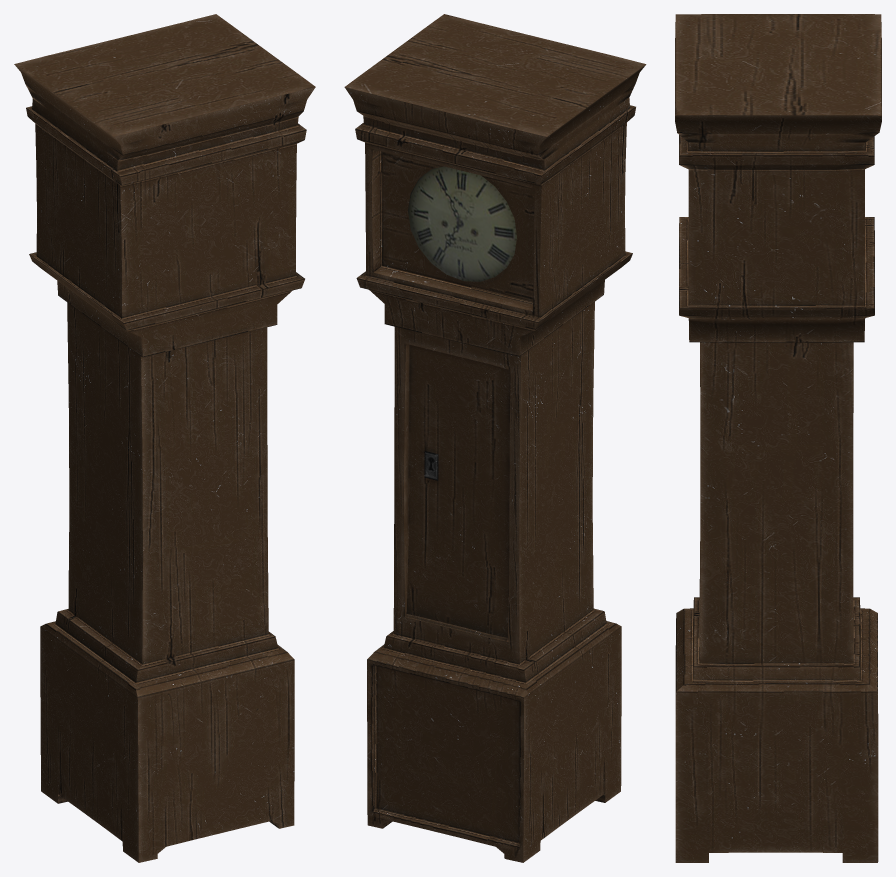
Rendered from Clock.fbx.
The picture shows the model from 3 angles, left to right: view 1: azimuth 30°, elevation 25°; view 2: azimuth 150°, elevation 25°; view 3: azimuth 270°, elevation 25°; orthographic projection. The views are drawn at different scales.
Parts seen in each view (by area): view 1: Clock1; view 2: Clock1; view 3: Clock1.
Part boxes in pixels (left/top/right/bottom): Clock1: left=14, top=14, right=315, bottom=862; Clock1: left=344, top=14, right=646, bottom=862; Clock1: left=675, top=14, right=881, bottom=862.
Size of the model in its own units: 8.36 by 28.97 by 7.16.
